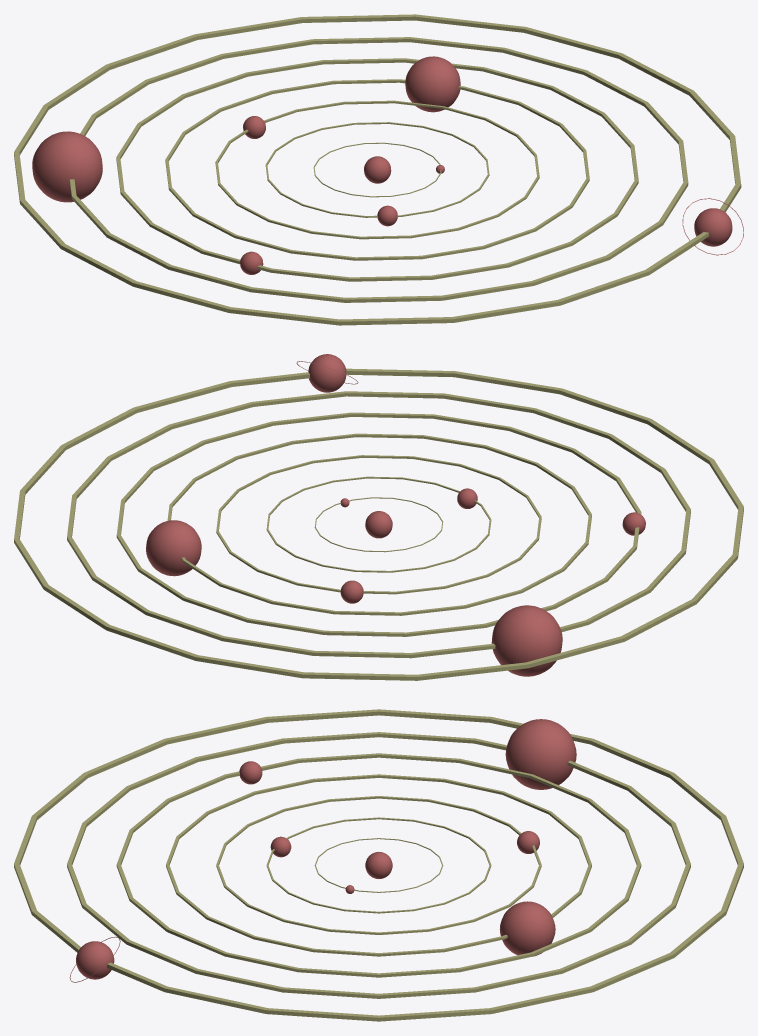
The model's file is Solar System.fbx.
3 renders of one model, top to bottom at view 1: azimuth 30°, elevation 25°; view 2: azimuth 150°, elevation 25°; view 3: azimuth 270°, elevation 25°, orthographic.
Visible parts, largest first — view 1: polySurface259, polySurface8, polySurface9, polySurface5, polySurface12, polySurface6, polySurface14, polySurface17, polySurface11, Earth; view 2: polySurface259, polySurface8, polySurface9, polySurface5, polySurface12, polySurface6, polySurface14, polySurface17, polySurface11, Earth; view 3: polySurface259, polySurface8, polySurface9, polySurface5, polySurface12, polySurface6, polySurface14, polySurface17, polySurface11, Earth.
Boxes of the visible parts, x1,y1,x2,y2 form: polySurface259: (14,14,741,325); polySurface8: (70,37,688,302); polySurface9: (116,58,638,281); polySurface5: (165,79,589,260); polySurface12: (32,131,102,202); polySurface6: (215,100,539,239); polySurface14: (405,56,460,112); polySurface17: (265,122,489,217); polySurface11: (694,208,732,246); Earth: (364,156,391,183); polySurface259: (14,368,743,680); polySurface8: (67,391,690,658); polySurface9: (116,412,641,636); polySurface5: (167,433,591,615); polySurface12: (491,605,562,676); polySurface6: (216,455,541,594); polySurface14: (146,520,201,576); polySurface17: (266,476,491,572); polySurface11: (308,354,346,392); Earth: (365,511,392,538); polySurface259: (14,709,743,1021); polySurface8: (67,732,690,998); polySurface9: (116,753,641,977); polySurface5: (166,774,591,956); polySurface12: (505,719,576,789); polySurface6: (216,796,541,934); polySurface14: (499,901,555,956); polySurface17: (266,817,491,913); polySurface11: (76,941,114,979); Earth: (365,852,392,878).
Size of the model in its own units: 14 by 1.36 by 14.
